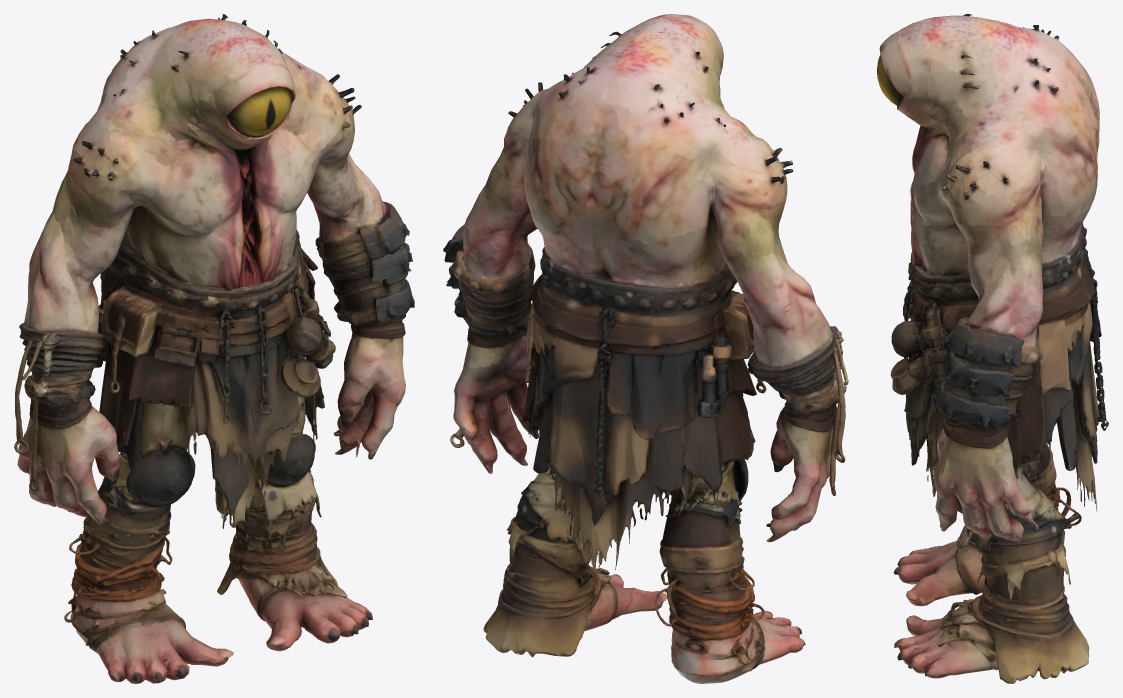
Rendered from cyclops__cyclopean-sentinel.glb.
The picture shows the model from 3 angles, left to right: view 1: azimuth 30°, elevation 25°; view 2: azimuth 150°, elevation 25°; view 3: azimuth 270°, elevation 25°; orthographic projection. The views are drawn at different scales.
Size of the model in its own units: 1.28 by 1.9 by 0.6658.
Materials: 1 (1 with a texture image).
